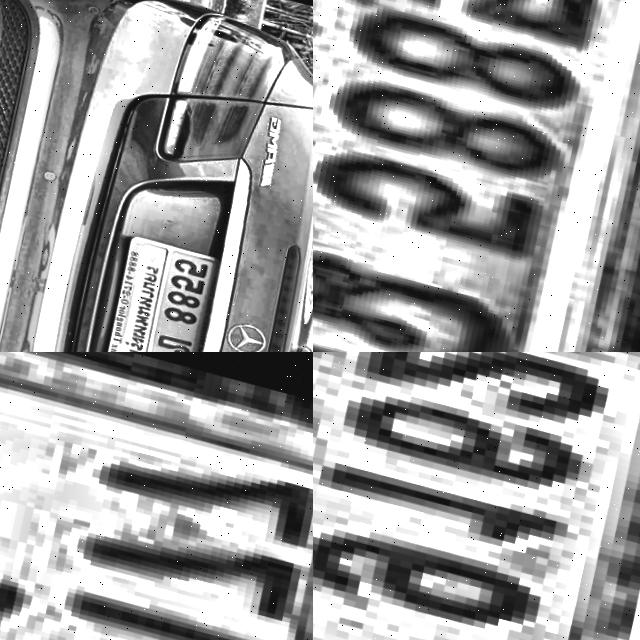license-plate: (313, 0, 640, 352), (313, 352, 640, 640), (0, 352, 313, 640), (96, 230, 224, 352)
